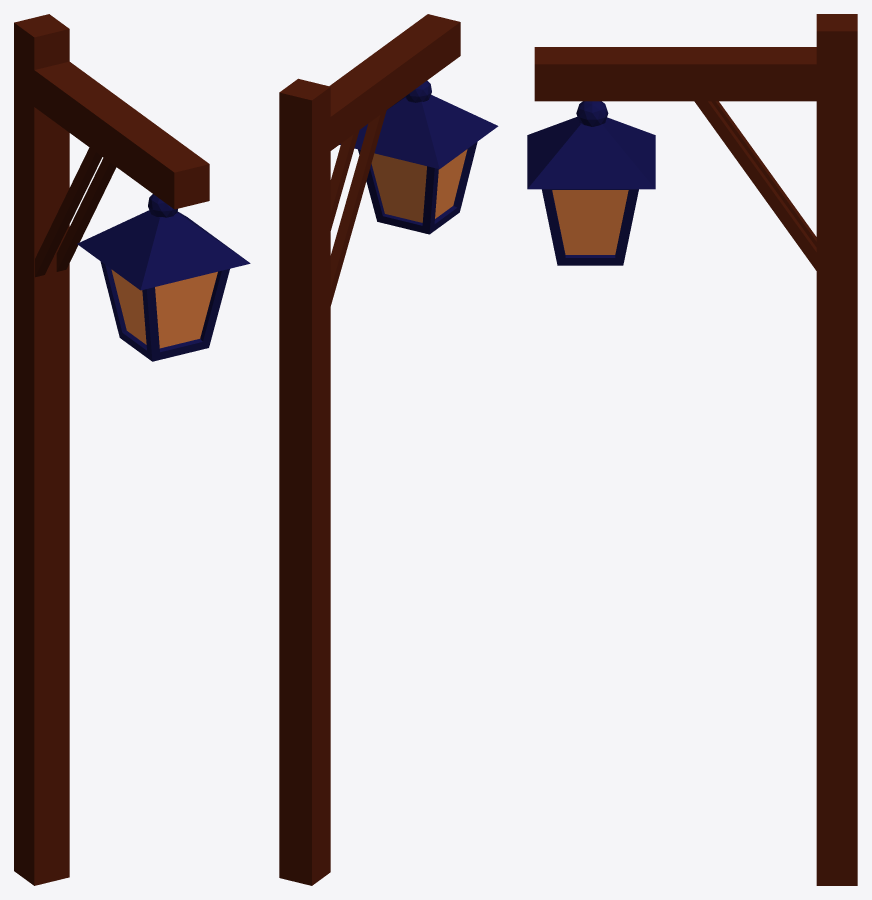
Rendered from StreetLamp.fbx.
3 views of the same model, side by side, from view 1: azimuth 30°, elevation 25°; view 2: azimuth 150°, elevation 25°; view 3: azimuth 270°, elevation 25° (orthographic). The views are drawn at different scales.
Visible parts, largest first — view 1: Cube.003, Cube.004, Cube.007, Cube.008, Cube.005, Cube.006; view 2: Cube.003, Cube.004, Cube.007, Cube.008, Cube.005, Cube.006; view 3: Cube.003, Cube.004, Cube.008, Cube.007, Cube.006, Cube.005, Icosphere.
Part boxes in pixels (left/top/right/bottom): Cube.003: left=14, top=14, right=69, bottom=885; Cube.004: left=34, top=61, right=209, bottom=209; Cube.007: left=100, top=261, right=229, bottom=361; Cube.008: left=77, top=210, right=250, bottom=290; Cube.005: left=35, top=147, right=102, bottom=277; Cube.006: left=56, top=158, right=116, bottom=271; Cube.003: left=279, top=78, right=330, bottom=885; Cube.004: left=329, top=14, right=460, bottom=150; Cube.007: left=358, top=142, right=477, bottom=234; Cube.008: left=339, top=94, right=498, bottom=169; Cube.005: left=330, top=110, right=386, bottom=305; Cube.006: left=330, top=130, right=359, bottom=230; Cube.003: left=816, top=14, right=857, bottom=885; Cube.004: left=534, top=47, right=816, bottom=101; Cube.008: left=527, top=117, right=655, bottom=189; Cube.007: left=542, top=189, right=638, bottom=265; Cube.006: left=694, top=101, right=816, bottom=270; Cube.005: left=711, top=101, right=816, bottom=247; Icosphere: left=576, top=101, right=608, bottom=126.
Size of the model in its own units: 114 by 838 by 294.
